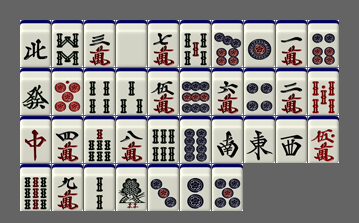0m: (308, 116, 339, 163)
0p: (52, 68, 83, 115)
0s: (308, 68, 339, 115)
1m: (276, 20, 307, 67)
1p: (244, 20, 275, 67)
1s: (116, 164, 147, 211)
1z: (244, 116, 275, 163)
2m: (276, 68, 307, 115)
2p: (180, 164, 211, 211)
2s: (84, 164, 115, 211)
2z: (212, 116, 243, 163)
3m: (84, 20, 115, 67)
3p: (148, 164, 179, 211)
3s: (116, 68, 147, 115)
3z: (276, 116, 307, 163)
4m: (52, 116, 83, 163)
4p: (244, 68, 275, 115)
4s: (84, 68, 115, 115)
4z: (20, 20, 51, 67)
5m: (148, 68, 179, 115)
5p: (212, 164, 243, 211)
5s: (180, 20, 211, 67)
5z: (116, 20, 147, 67)
6m: (212, 68, 243, 115)
6p: (308, 20, 339, 67)
6s: (148, 116, 179, 163)
6z: (20, 68, 51, 115)
7m: (148, 20, 179, 67)
7p: (212, 20, 243, 67)
7s: (84, 116, 115, 163)
7z: (20, 116, 51, 163)
8m: (116, 116, 147, 163)
8p: (180, 116, 211, 163)
8s: (52, 20, 83, 67)
9m: (52, 164, 83, 211)
9p: (180, 68, 211, 115)
9s: (20, 164, 51, 211)
